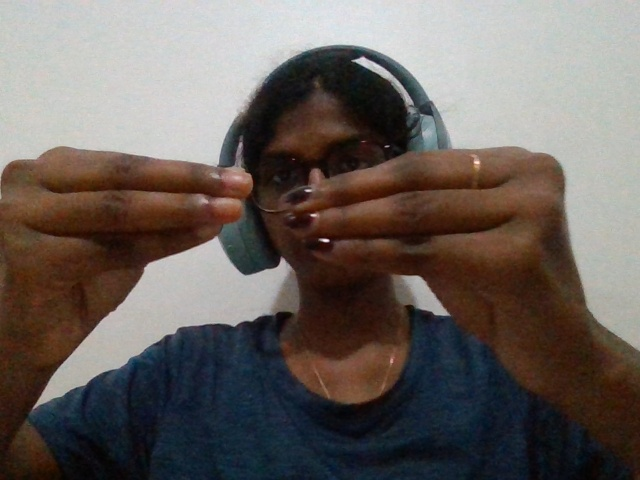More: (5, 128, 592, 421)
